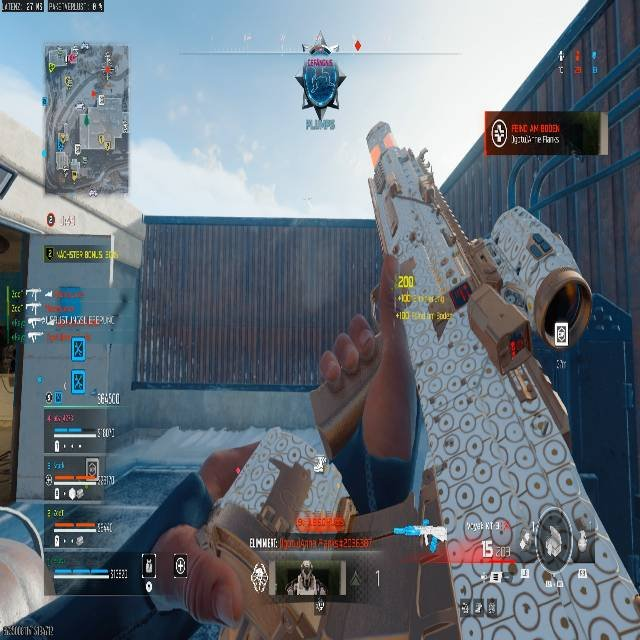head: (366, 119, 395, 159)
player: (296, 34, 345, 132)
